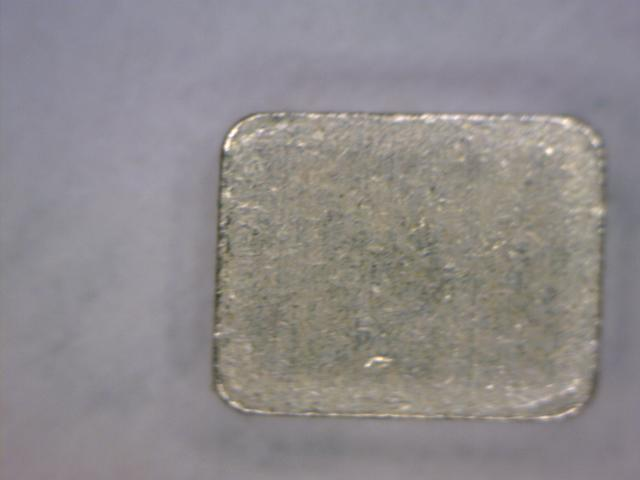ok: (200, 101, 621, 432)
